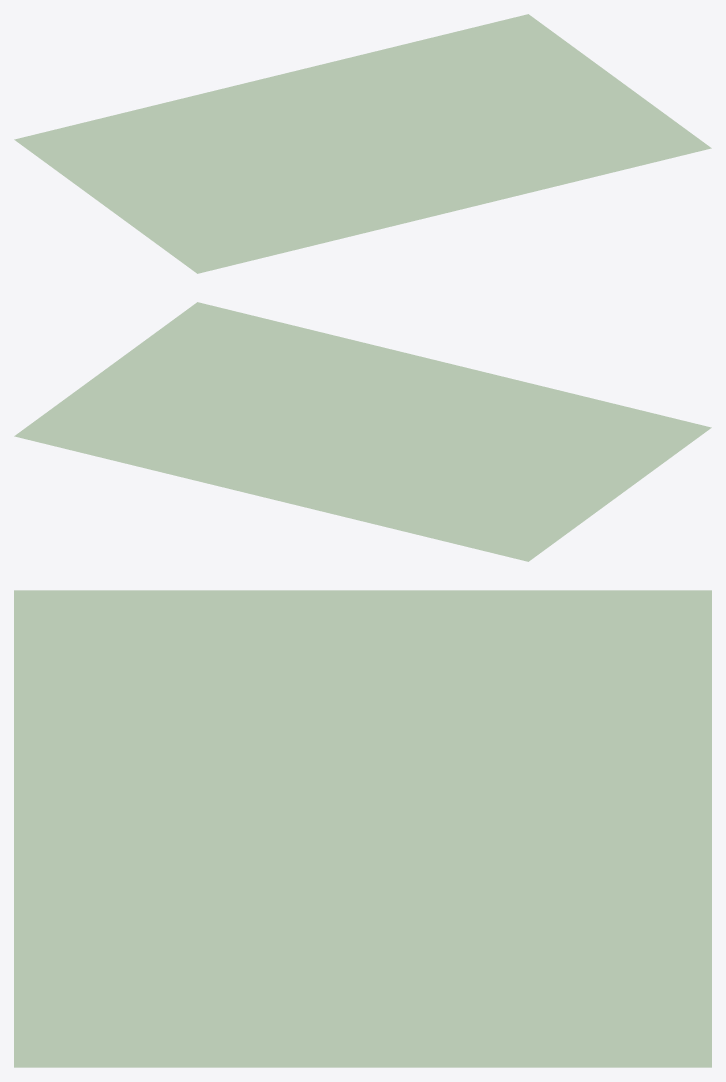
Rendered from sajada imam.glb.
3 views of the same model, one above another, from view 1: azimuth 30°, elevation 25°; view 2: azimuth 150°, elevation 25°; view 3: azimuth 270°, elevation 25° (orthographic). The views are drawn at different scales.
Visible parts, largest first — view 1: RUG_BASE, RUG_BASE_INNER; view 2: RUG_BASE, RUG_BASE_INNER; view 3: RUG_BASE, RUG_BASE_INNER.
Boxes of the visible parts, <box> form: RUG_BASE: <box>14,14,711,273</box>; RUG_BASE_INNER: <box>111,27,676,260</box>; RUG_BASE: <box>14,302,711,561</box>; RUG_BASE_INNER: <box>49,315,588,548</box>; RUG_BASE: <box>14,590,711,1067</box>; RUG_BASE_INNER: <box>49,614,676,1043</box>.
Size of the model in its own units: 1.7 by 0 by 1.05.
